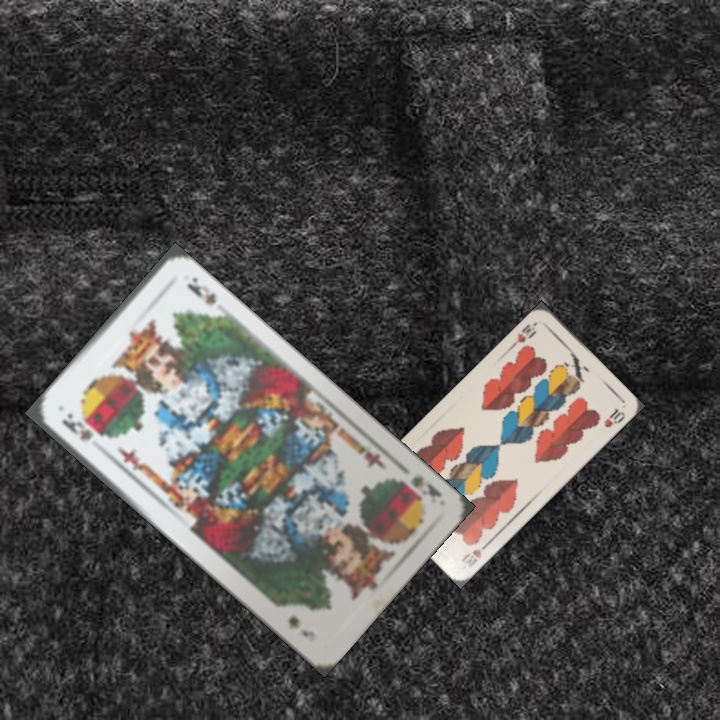H10: (457, 537, 492, 570), (507, 318, 540, 350)
SK: (57, 409, 96, 444), (407, 471, 444, 501)
